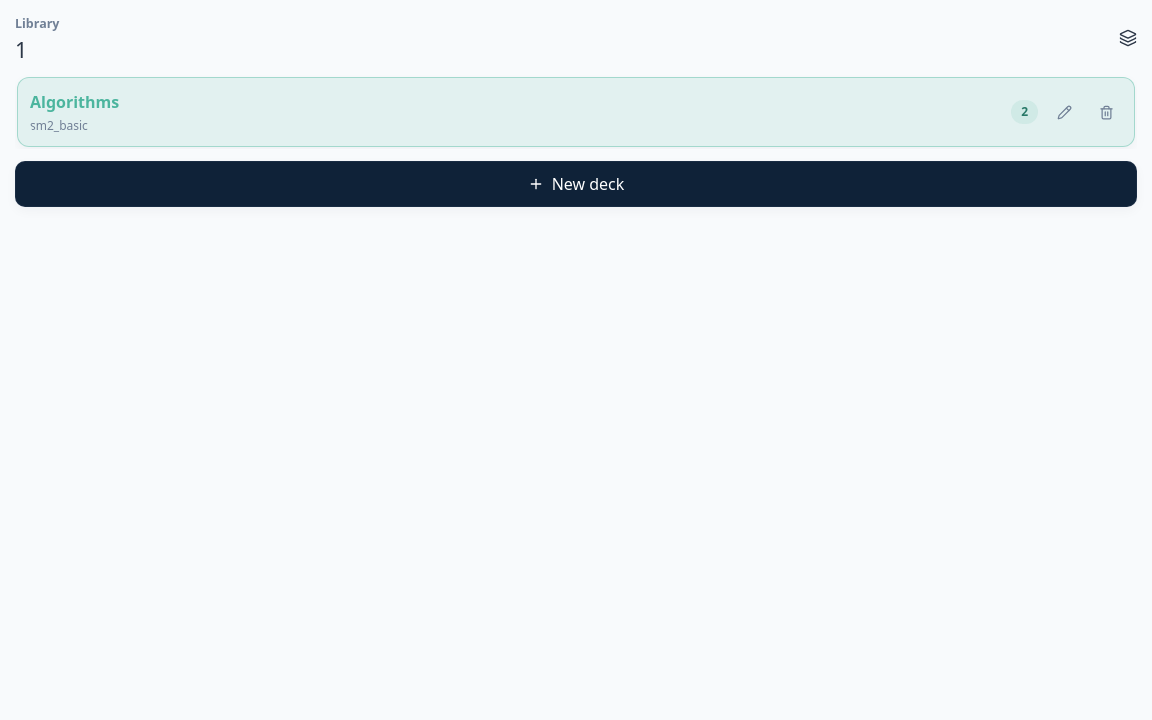
Test: DeckPanel › keeps the delete confirmation open and shows an error when deletion fails
The image size is (1152, 720).
Click the button named "delete algorithms": (1106, 112) [1090,96,1122,128]
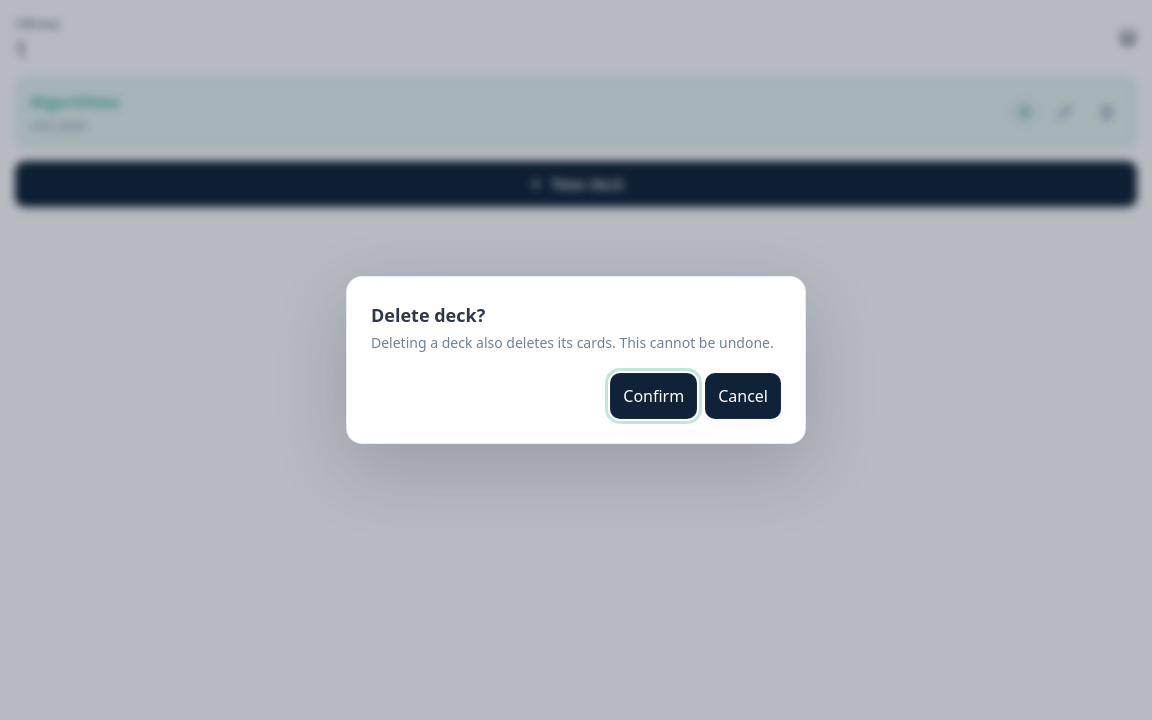
Click the button "Confirm": (654, 396) [610,373,697,419]
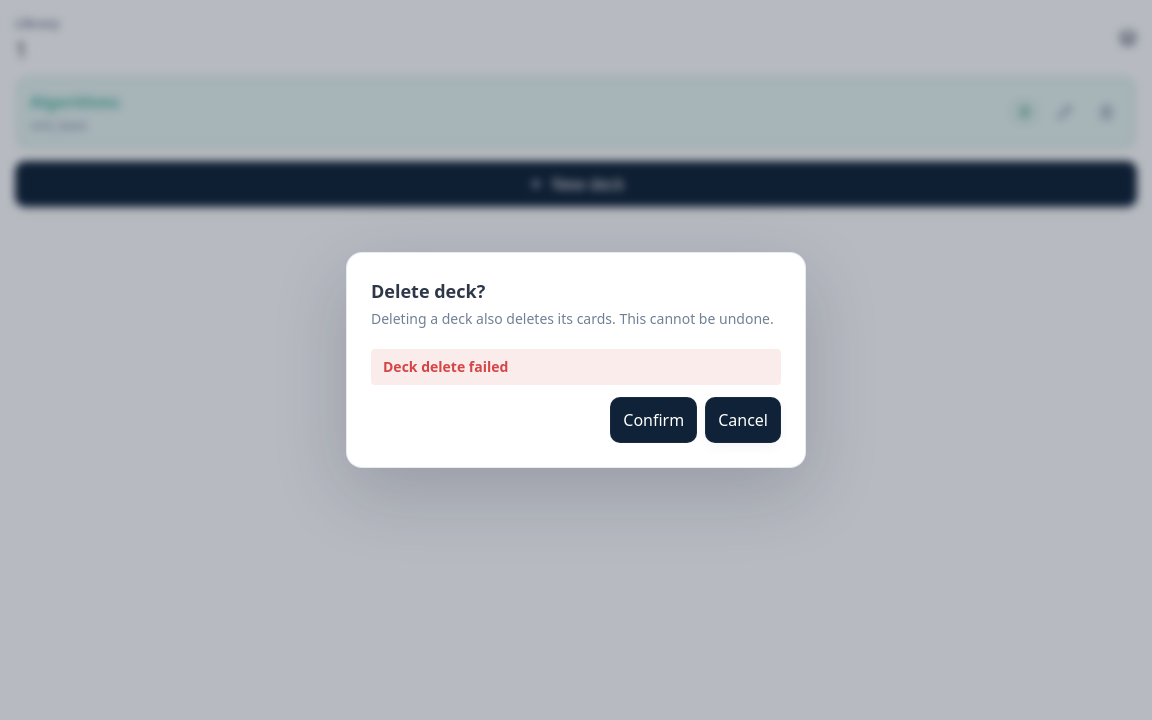
expect the dialog "Delete deck?" is shown: met, box [346,252,806,468]
expect the message reads "Deck delete failed": met, box [383,357,508,376]
